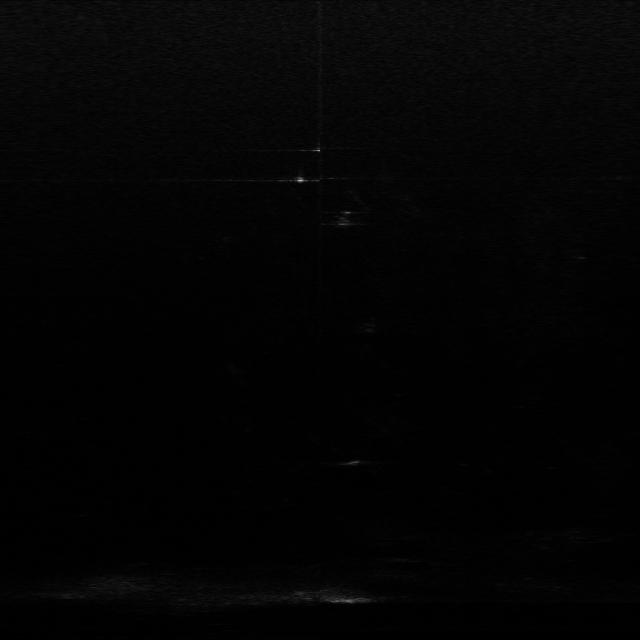rov: (332, 209, 354, 230)
